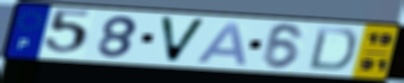5: (42, 8, 94, 59)
6: (259, 22, 309, 71)
8: (96, 14, 139, 59)
A: (194, 21, 250, 67)
D: (306, 25, 360, 73)
V: (157, 15, 210, 65)
